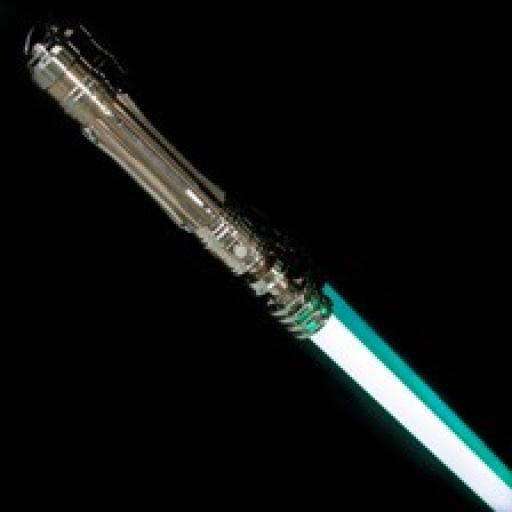lightsaber: (20, 9, 512, 507)
